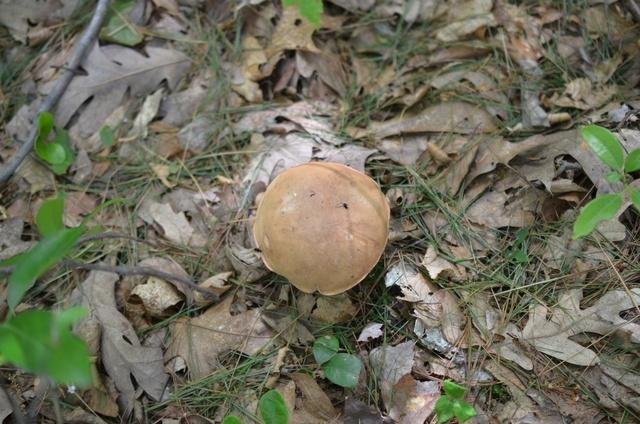poisonous_mushroom: (251, 160, 390, 296)
